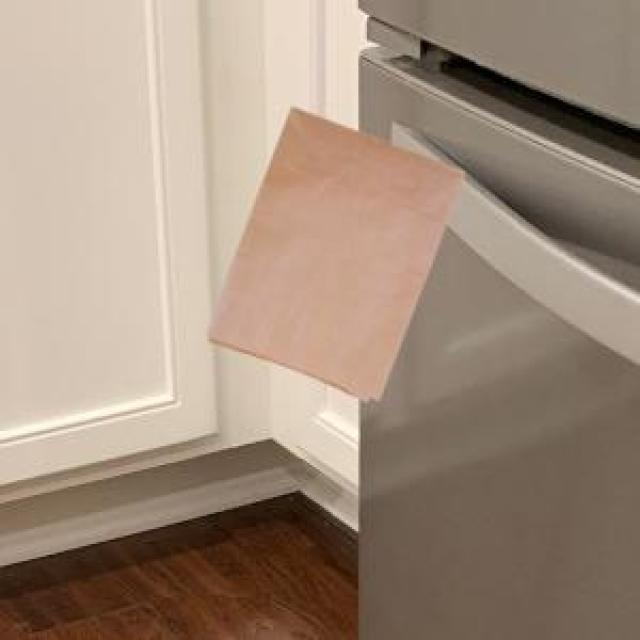paper: (203, 102, 461, 397)
